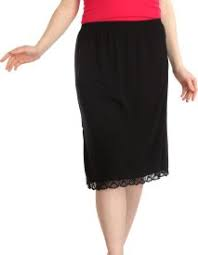S_skirt: (58, 2, 189, 194)
